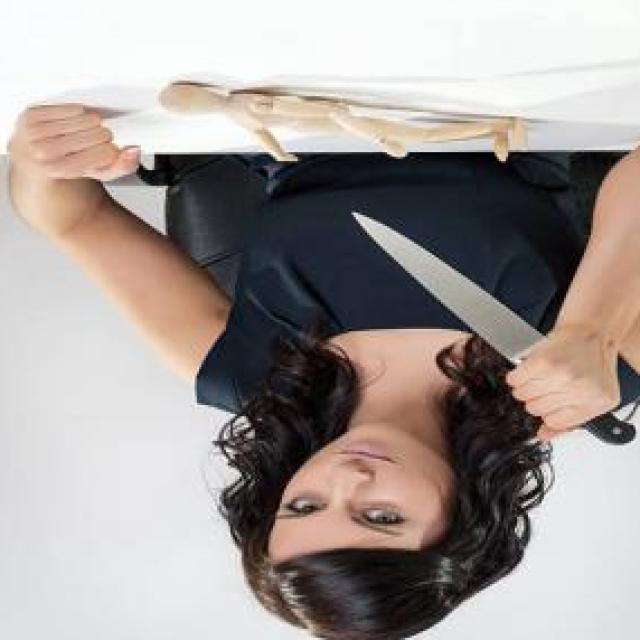knife: (347, 212, 639, 446)
